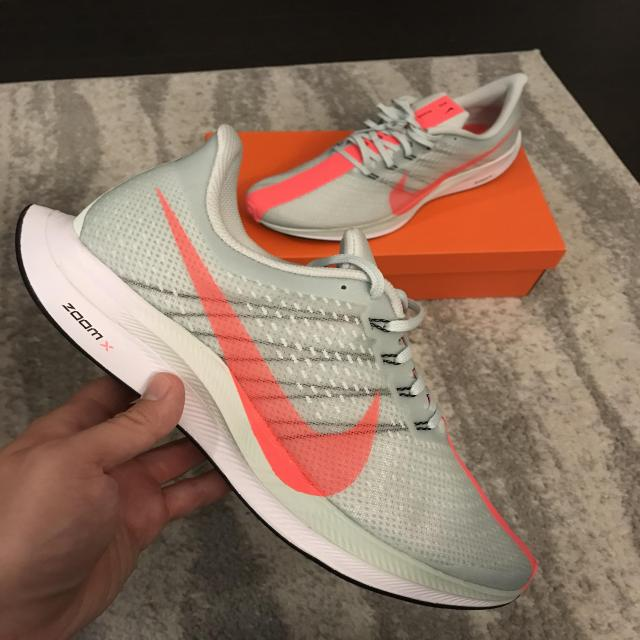shoe: (31, 174, 527, 620), (257, 81, 568, 236)
